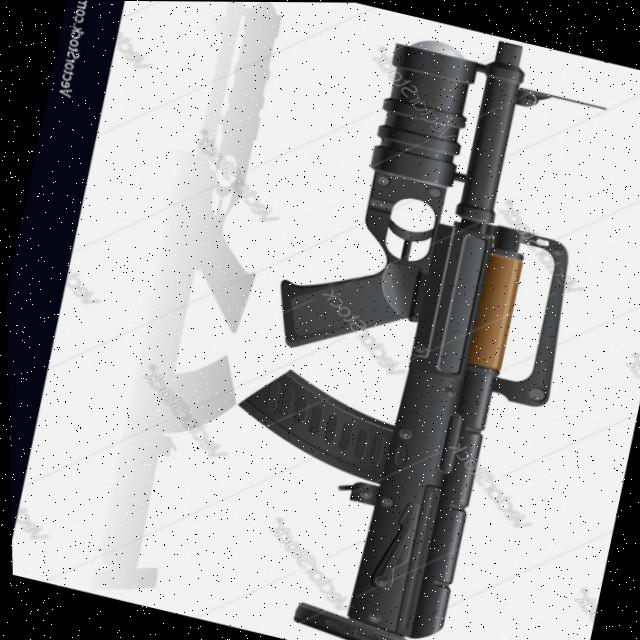firearm: (182, 1, 627, 640)
rocket: (340, 25, 488, 275)
